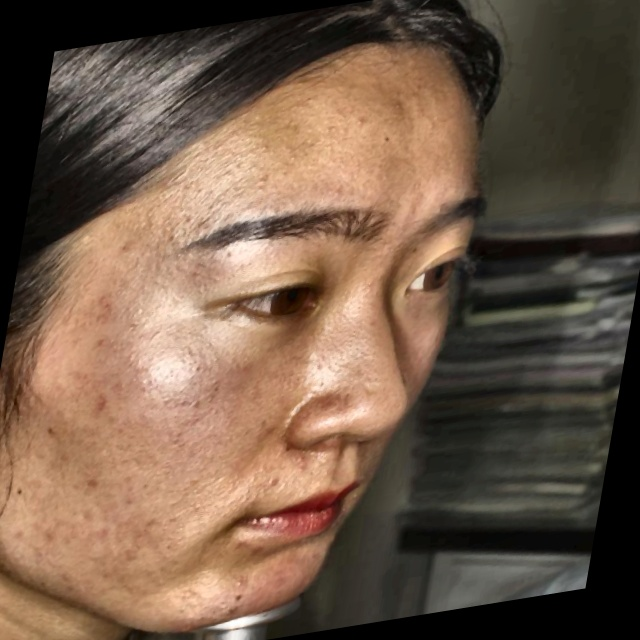comedone: (223, 570, 261, 602)
